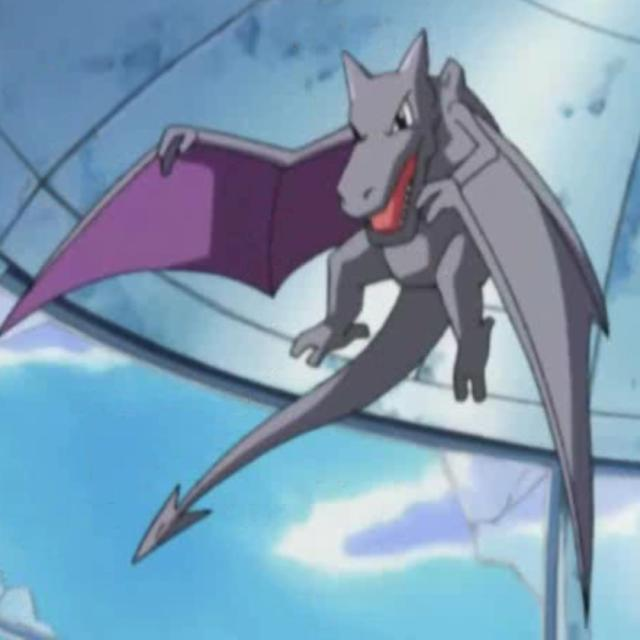Aerodactyl: (204, 43, 518, 400)
